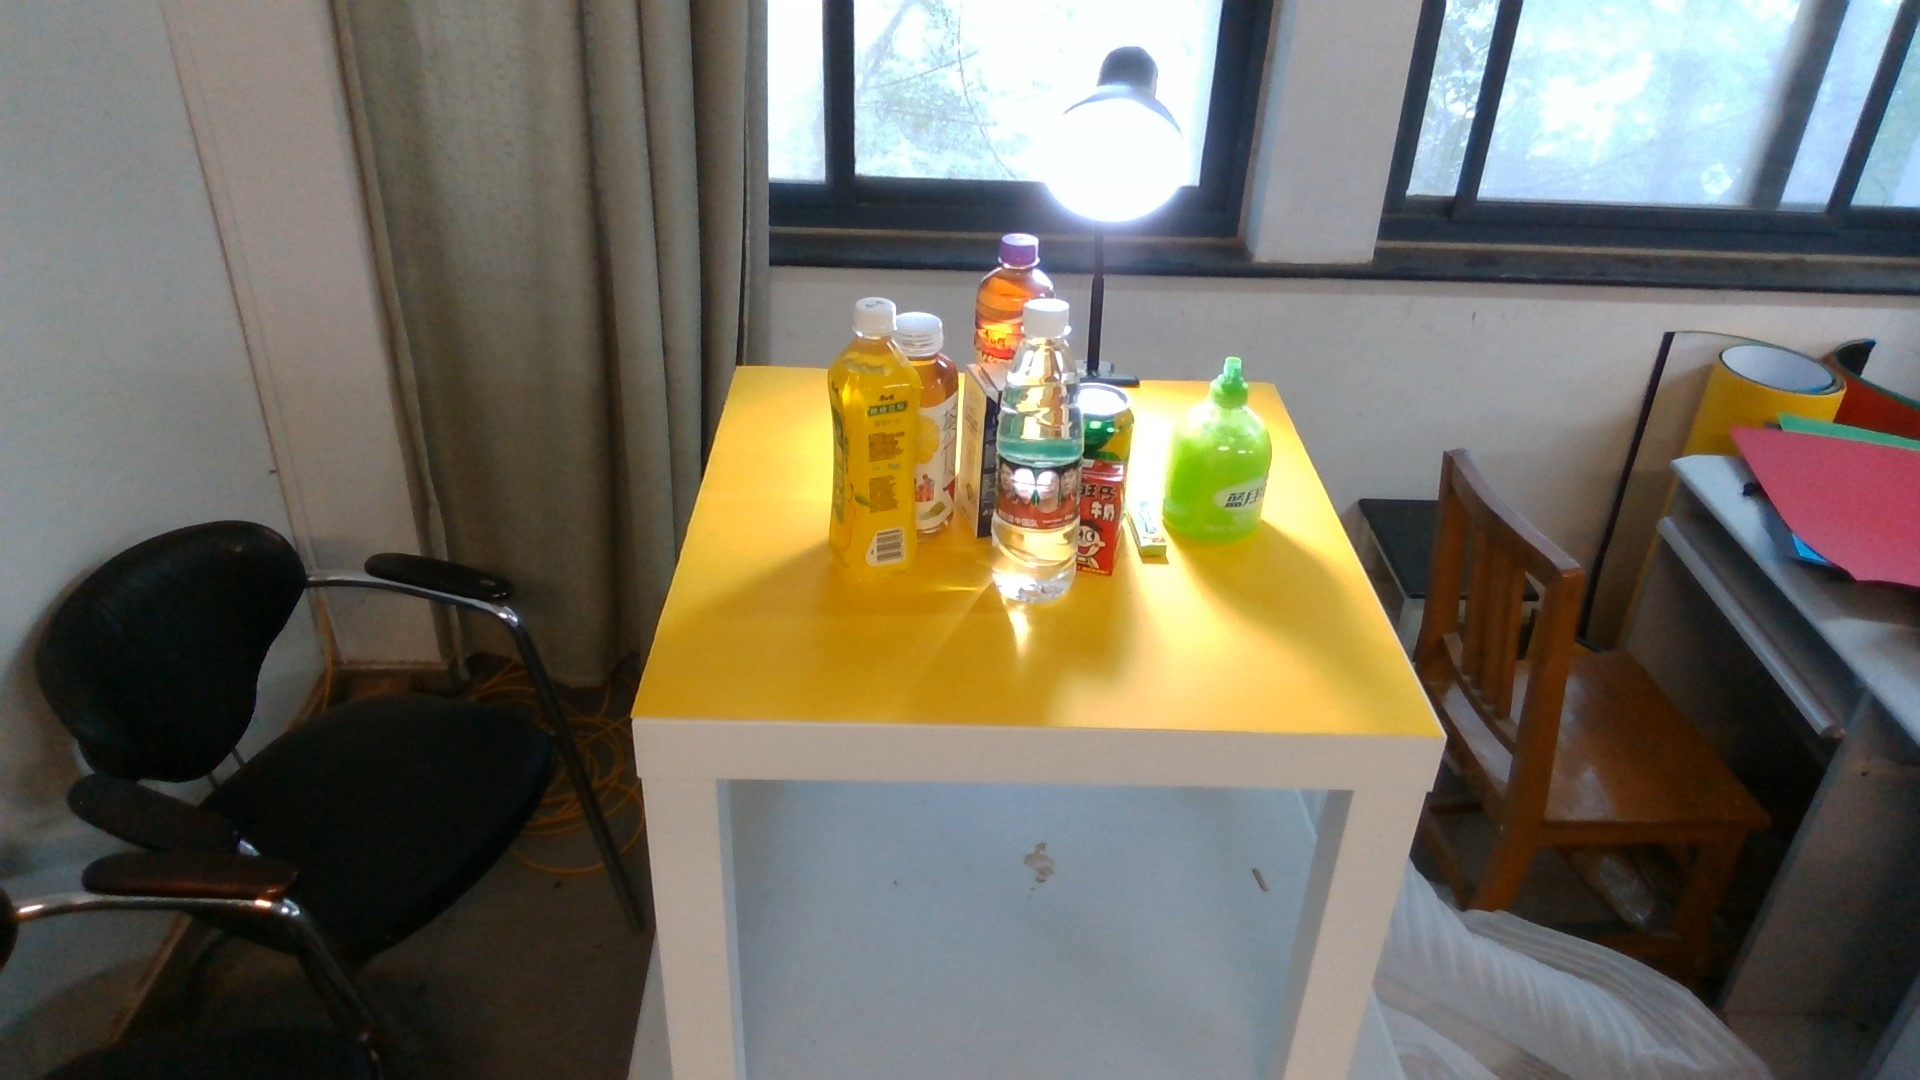BB002: (1129, 498, 1164, 562)
BB010: (961, 360, 994, 535)
BB012: (1083, 456, 1126, 574)
ZA002: (1168, 357, 1273, 534)
ZC001: (1083, 378, 1134, 455)
ZC009: (976, 228, 1021, 357)
ZC011: (827, 295, 919, 582)
ZC012: (920, 309, 959, 537)
ZC017: (996, 298, 1083, 603)
